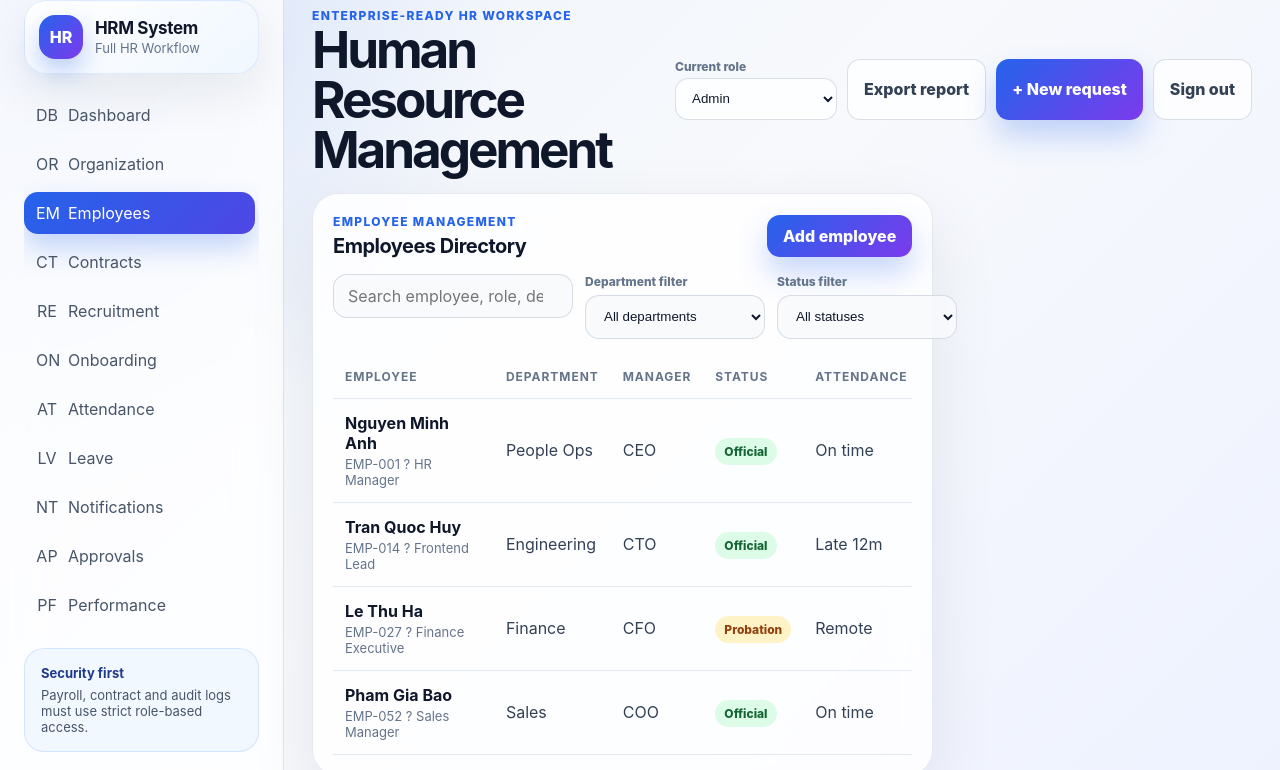
Test: HRM route navigation › adds a new employee from the directory form
Click the button "Add employee" at (840, 236), box [767,214,912,256]
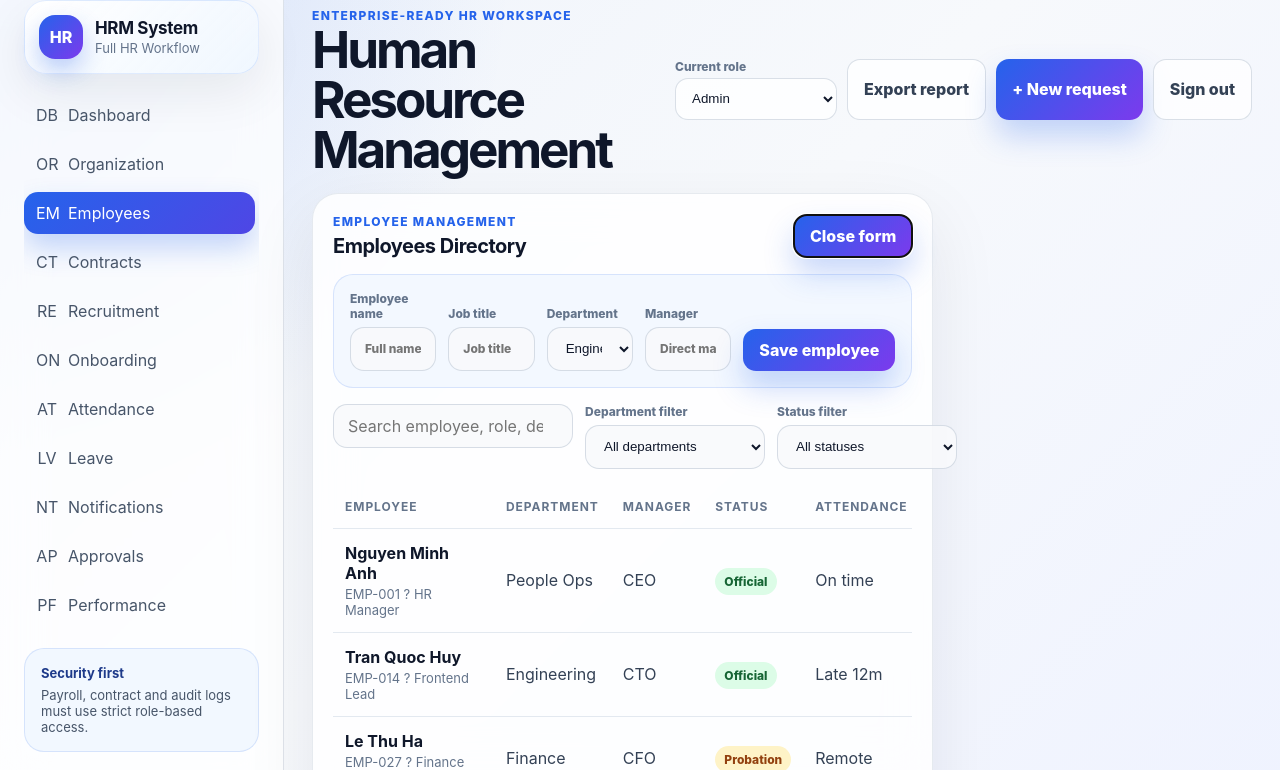
Type "Doan Lan Chi" into the field labelled "Employee name" at (393, 348), box [350,326,436,370]
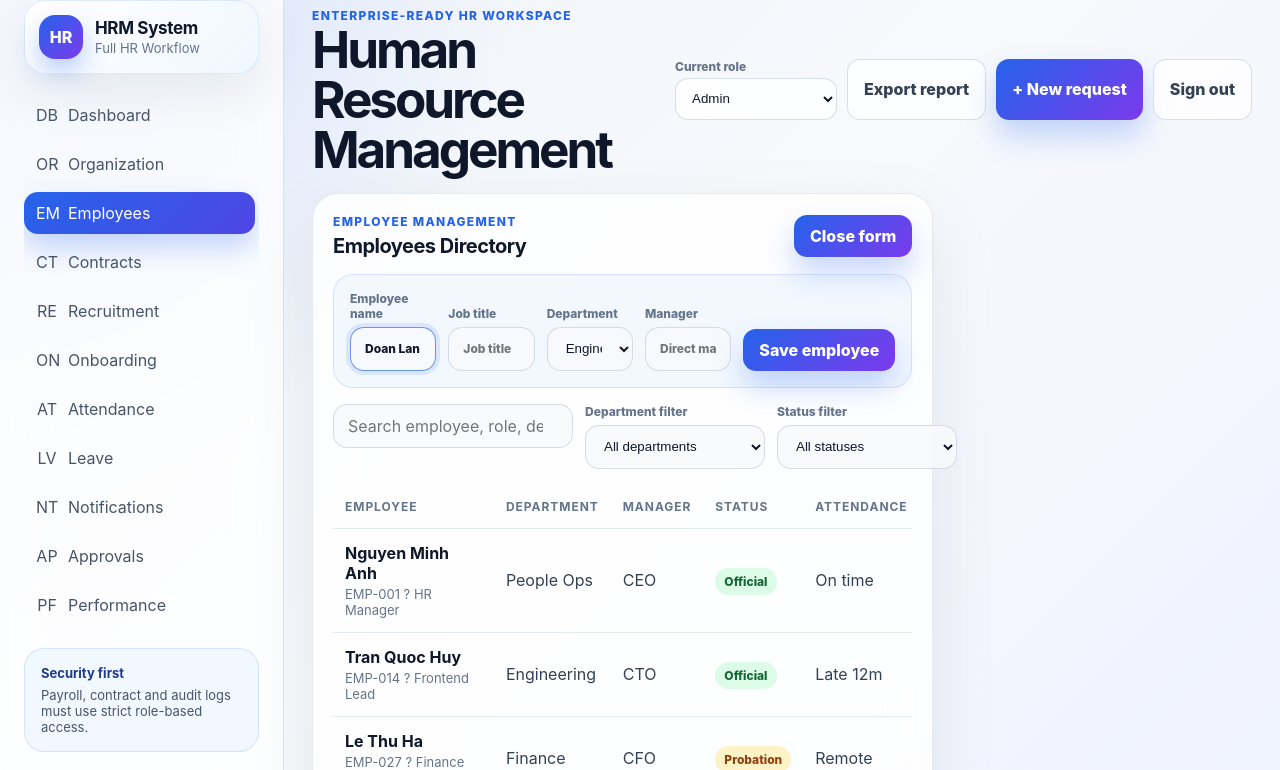
Type "QA Engineer" into the field labelled "Job title" at (491, 348), box [448,326,535,370]
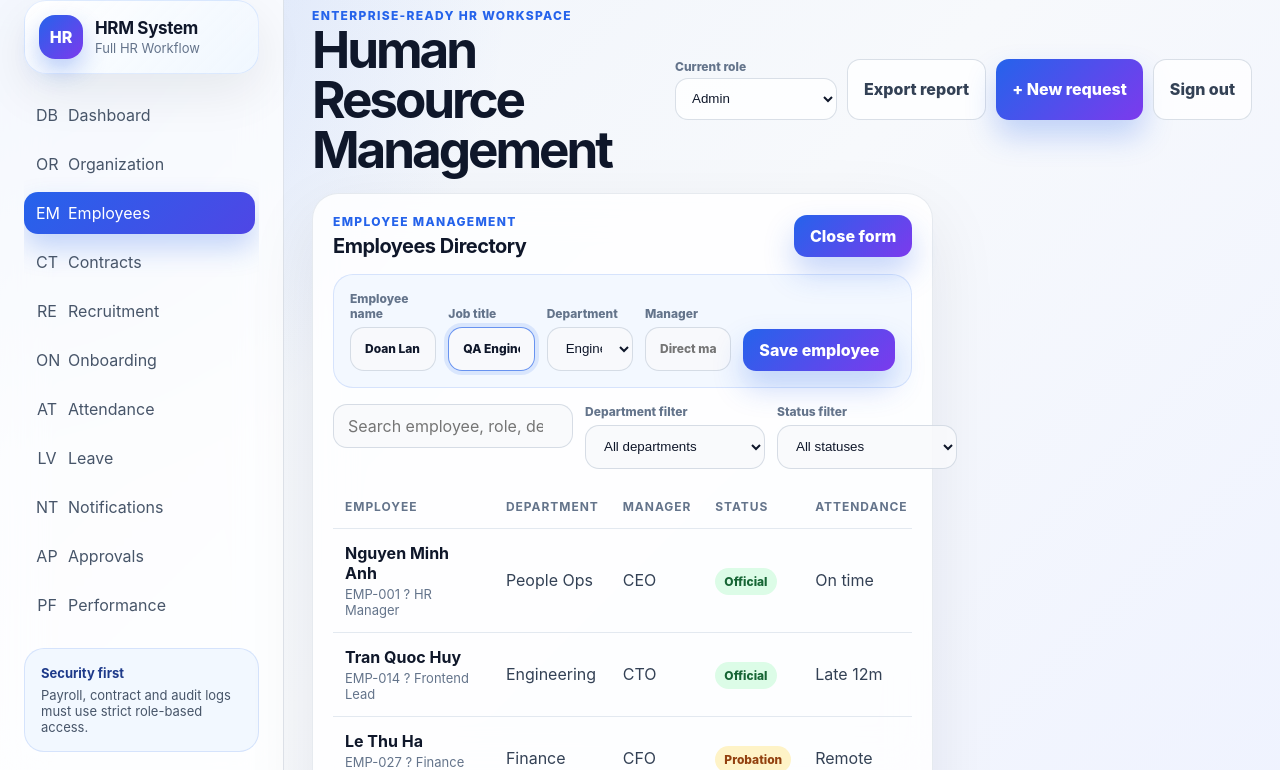
Select "Engineering" in the dropdown labelled "Department" at (590, 348), box [547,326,633,370]
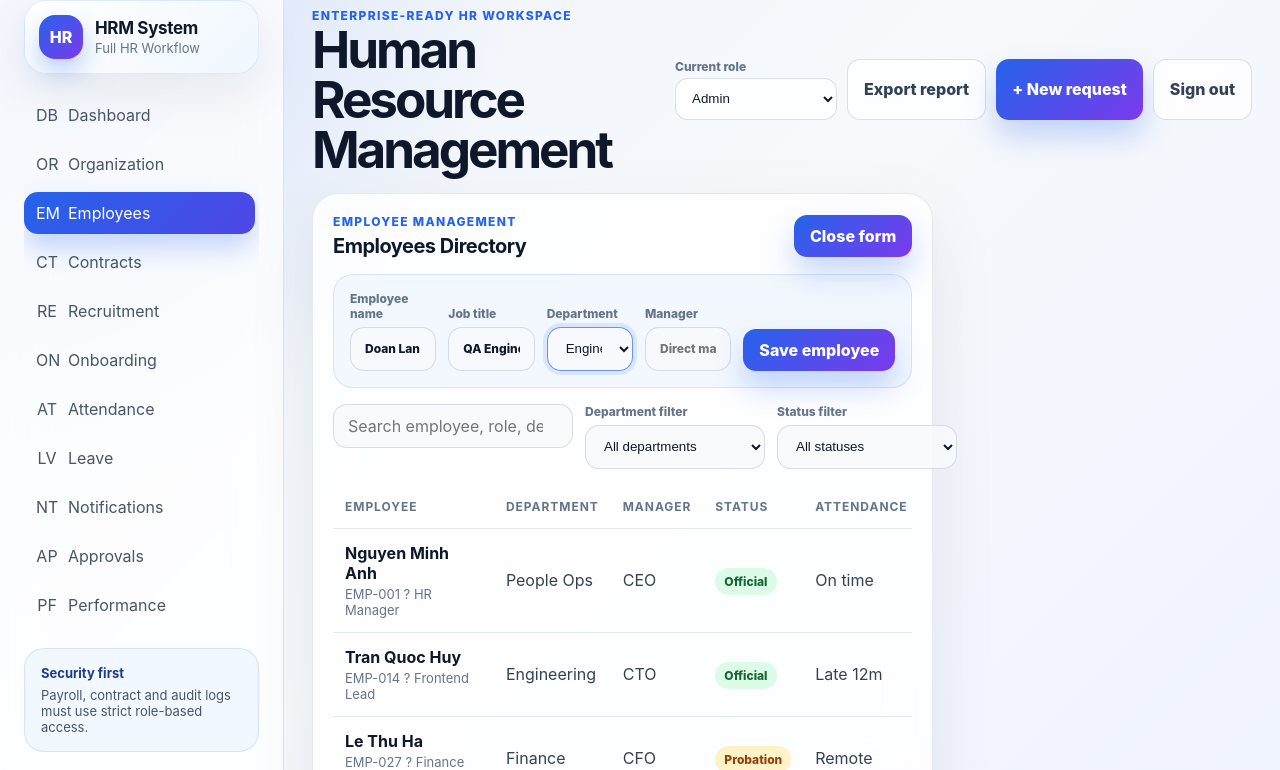
Type "CTO" into the field labelled "Manager" at (688, 348), box [645,326,731,370]
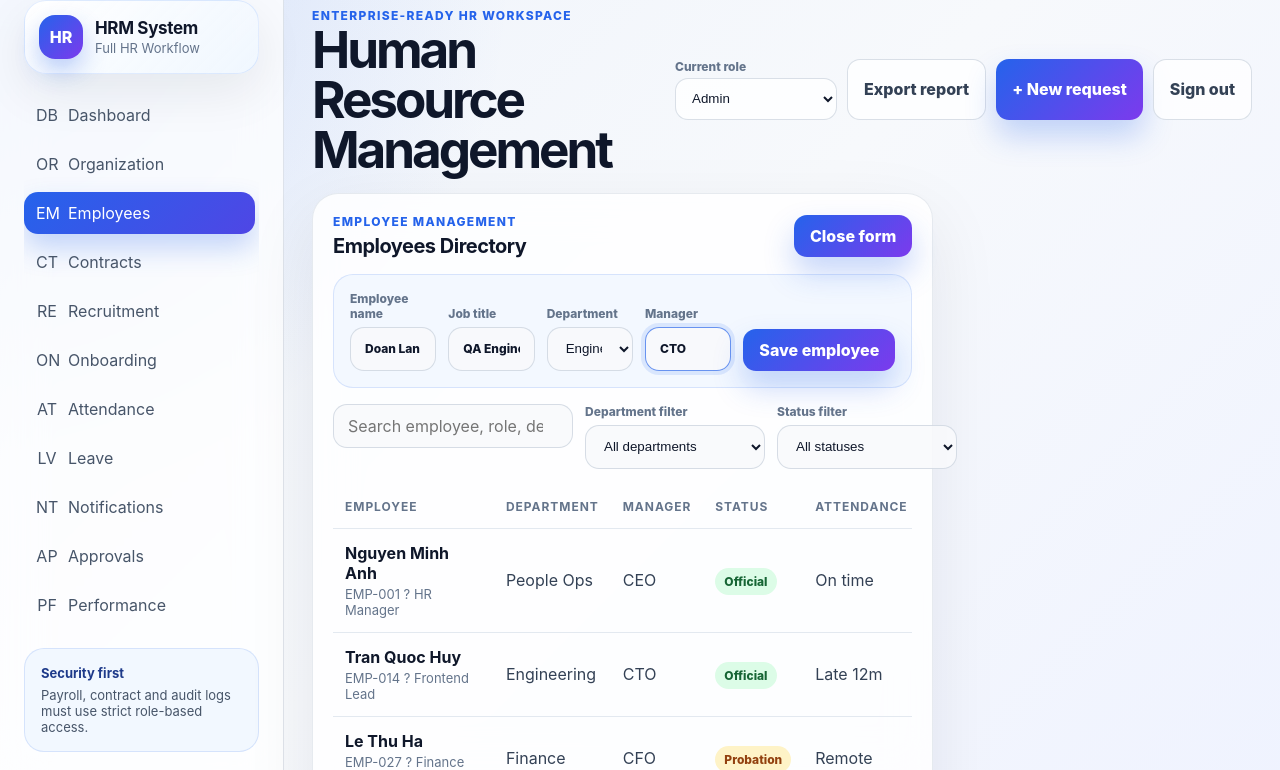
Click the button "Save employee" at (819, 350), box [743,328,895,370]
(page scrolled)
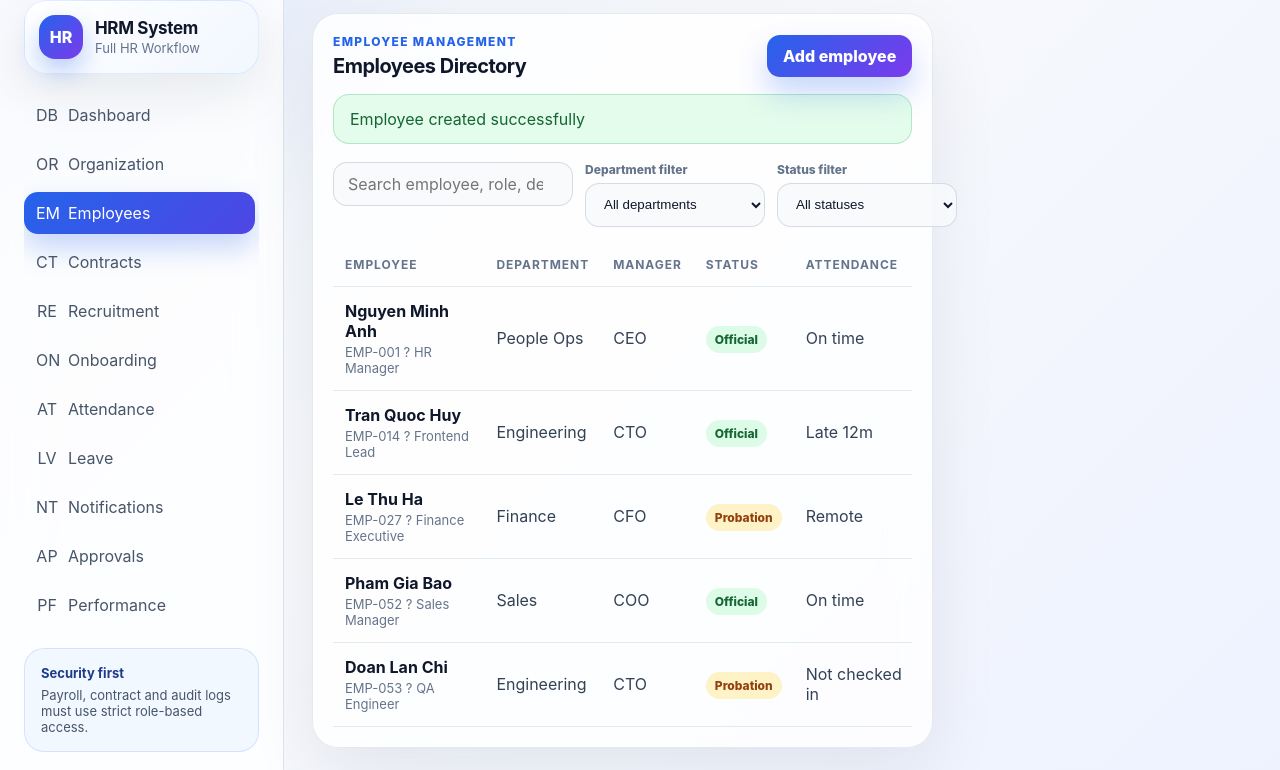
expect the message shows "Employee created": met, box [350,108,585,128]
expect the text "Doan Lan Chi" is shown: met, box [345,656,448,676]
expect the text "EMP-053 ? QA Engineer" is shown: met, box [345,680,435,712]
